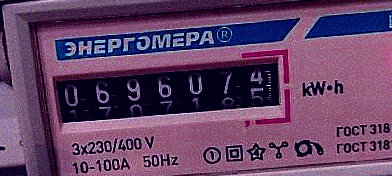0: (60, 81, 80, 107), (185, 69, 203, 96)
4: (247, 64, 263, 86)
5: (249, 86, 264, 106)
6: (91, 78, 111, 104), (155, 71, 172, 99)
7: (216, 68, 234, 95)
9: (123, 75, 142, 103)
screen: (45, 46, 296, 140)
